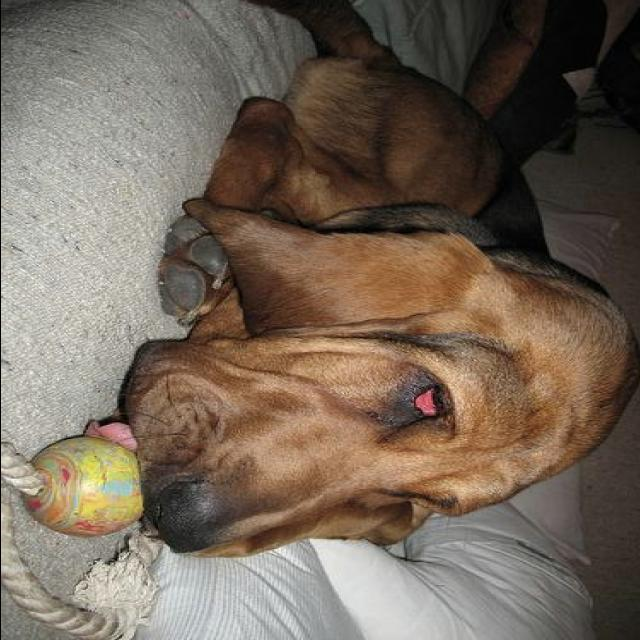bloodhound: (126, 4, 640, 562)
